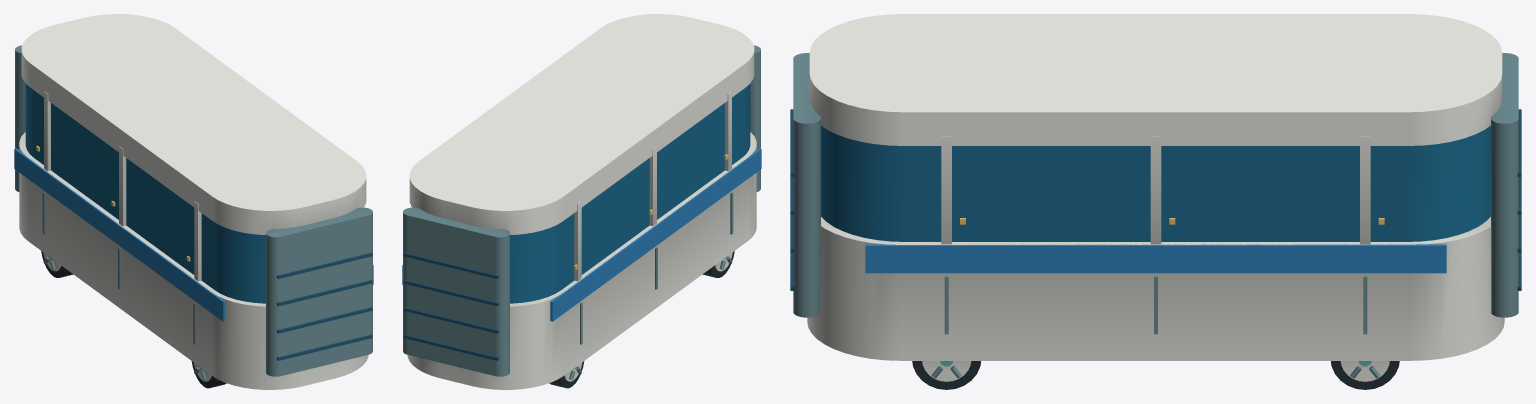
File: train-carriage.glb
3 renders of one model, left to right at view 1: azimuth 30°, elevation 25°; view 2: azimuth 150°, elevation 25°; view 3: azimuth 270°, elevation 25°, orthographic. The views are drawn at different scales.
Parts seen in each view (by area): view 1: train lower shell, articulated bellows, train panorama, train blue ribbon, bellows fold, electric tire; view 2: train lower shell, articulated bellows, train panorama, train blue ribbon, bellows fold, electric tire; view 3: train lower shell, train panorama, train blue ribbon, articulated bellows, electric tire, bellows fold.
Part boxes in pixels (x1,y1,x2,y2): train lower shell: (19,14,368,389); articulated bellows: (15,45,372,380); train panorama: (25,84,265,303); train blue ribbon: (14,148,373,321); bellows fold: (277,252,372,360); electric tire: (41,251,226,388); train lower shell: (407,14,756,389); articulated bellows: (403,45,760,380); train panorama: (510,84,750,303); train blue ribbon: (402,148,761,321); bellows fold: (403,252,498,360); electric tire: (549,251,734,388); train lower shell: (807,14,1504,381); train panorama: (821,125,1490,241); train blue ribbon: (865,244,1446,273); articulated bellows: (793,53,1518,378); electric tire: (912,361,1399,389); bellows fold: (790,109,1521,290).
Size of the model in its own units: 1.05 by 1.34 by 3.14.
